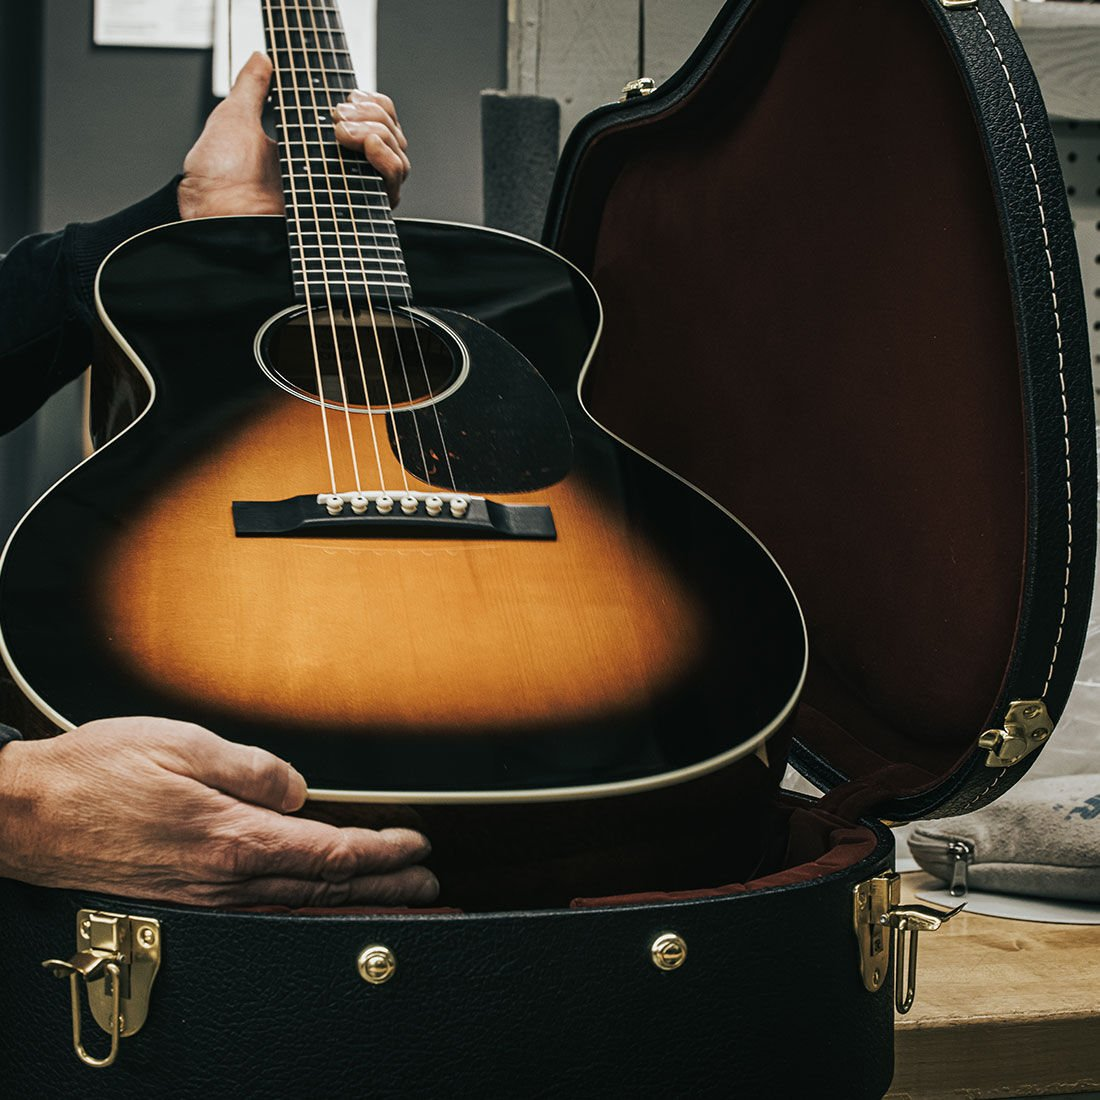guitar: (4, 7, 1100, 1100), (248, 0, 578, 593), (246, 0, 459, 563)
